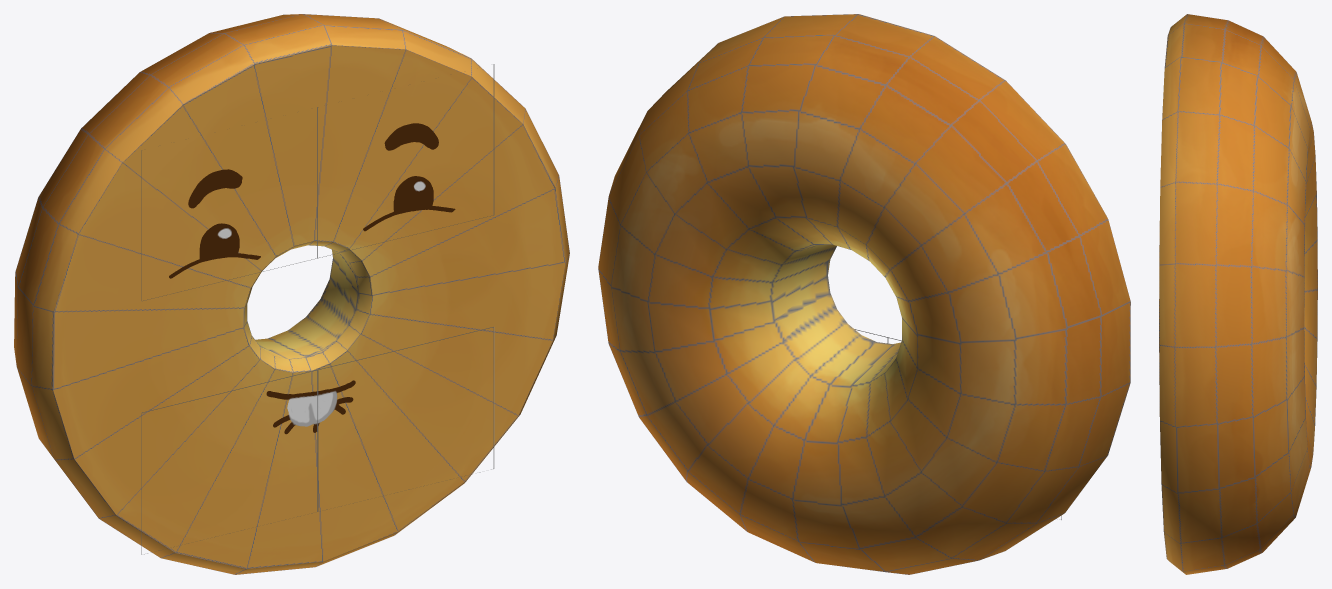
The model's file is M_character_bagel.FBX.
3 views of the same model, side by side, from view 1: azimuth 30°, elevation 25°; view 2: azimuth 150°, elevation 25°; view 3: azimuth 270°, elevation 25° (orthographic). The views are drawn at different scales.
Visible parts, largest first — view 1: bagel; view 2: bagel; view 3: bagel.
Boxes of the visible parts, box(x1,y1,x2,y2) form: bagel: box(14, 14, 569, 574); bagel: box(598, 14, 1130, 574); bagel: box(1159, 14, 1317, 574).
Bounding box in the file's own units: 335 × 330 × 95.39.
